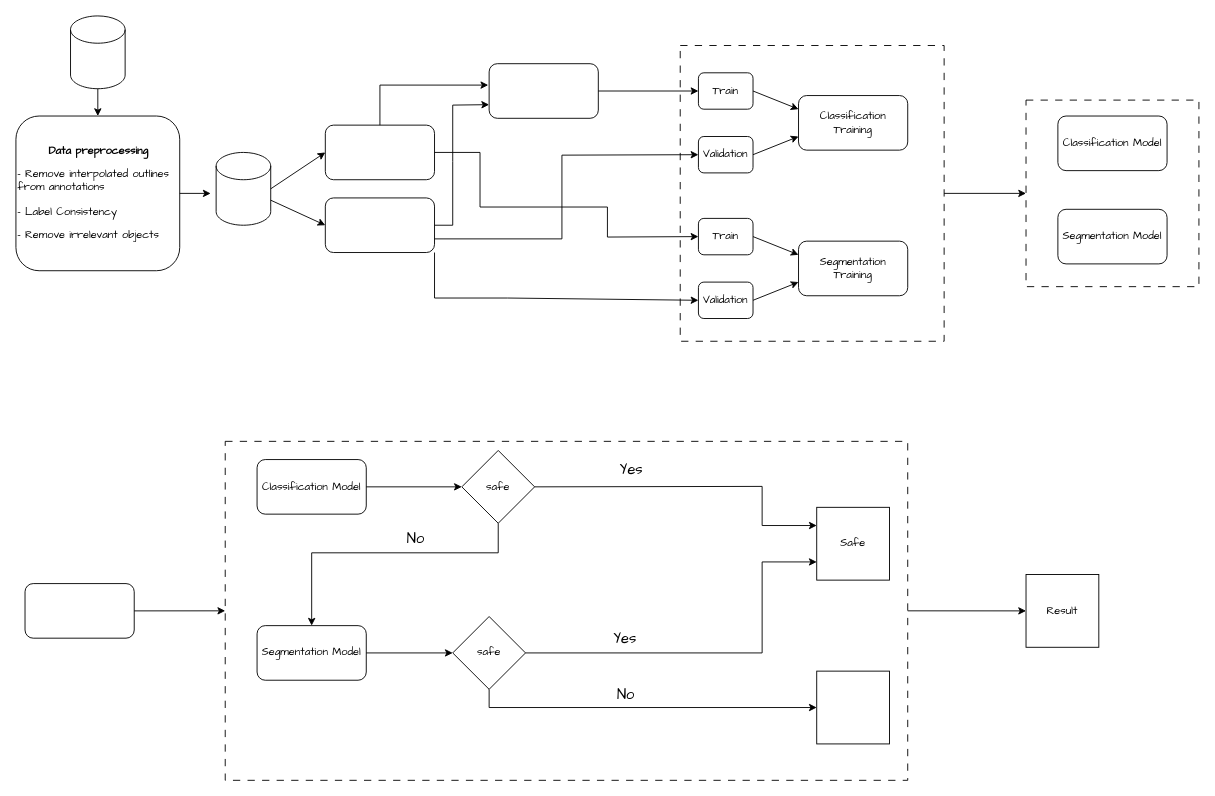
This 1215x796 diagram has some shape labels left out. The centre of each missing label's shape, as x and y in pixels:
"Augmented Data" belongs at [543,90].
"Clean Data" belongs at [243,188].
"Raw Data" belongs at [97,52].
"Test Images" belongs at [79,610].
"Testing Dataset" belongs at [379,225].
"Training Dataset" belongs at [379,152].
"Unsafe" belongs at [853,707].
